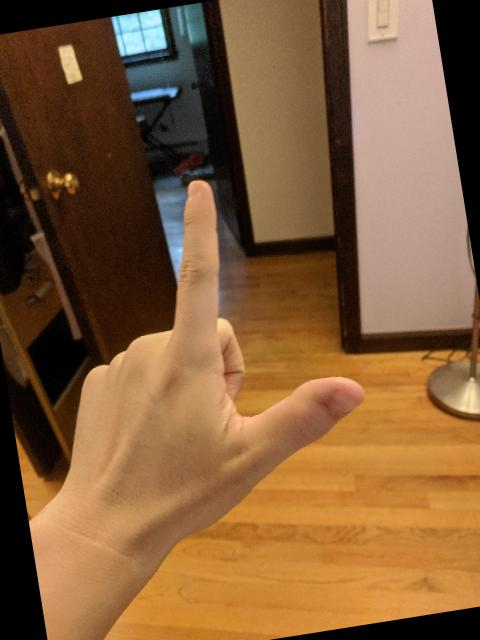L: (14, 153, 392, 572)
